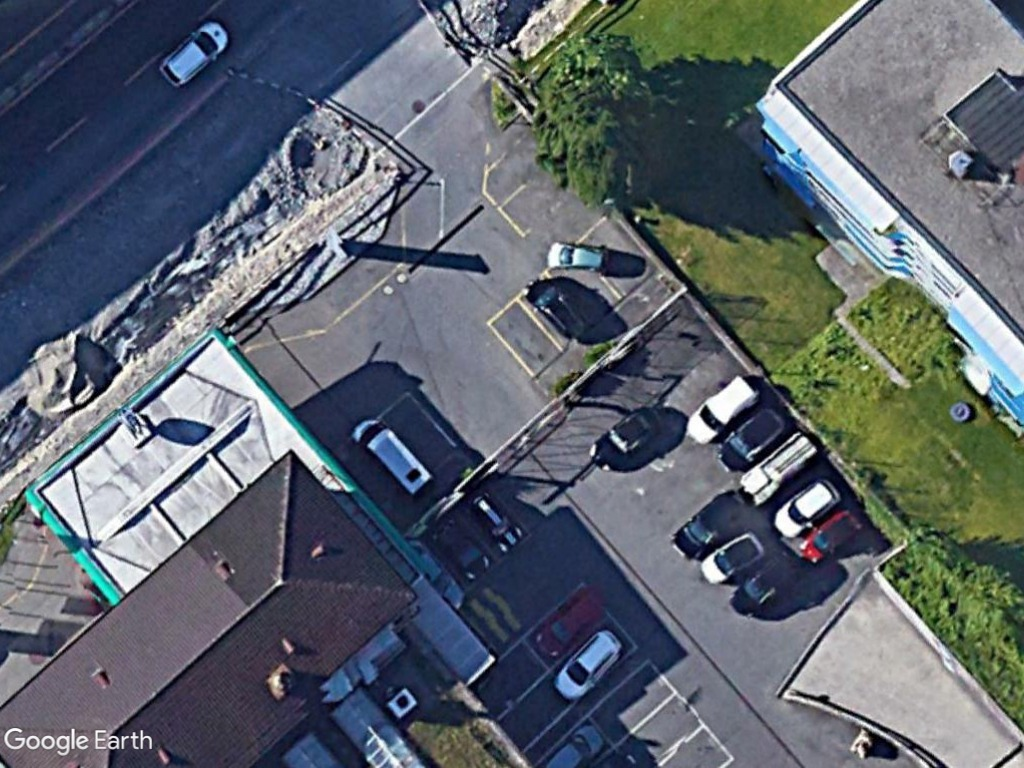car: (157, 16, 229, 91), (684, 375, 761, 445), (551, 627, 622, 702), (770, 478, 840, 540), (699, 529, 765, 586), (543, 238, 613, 275)
truck: (346, 415, 433, 498)
